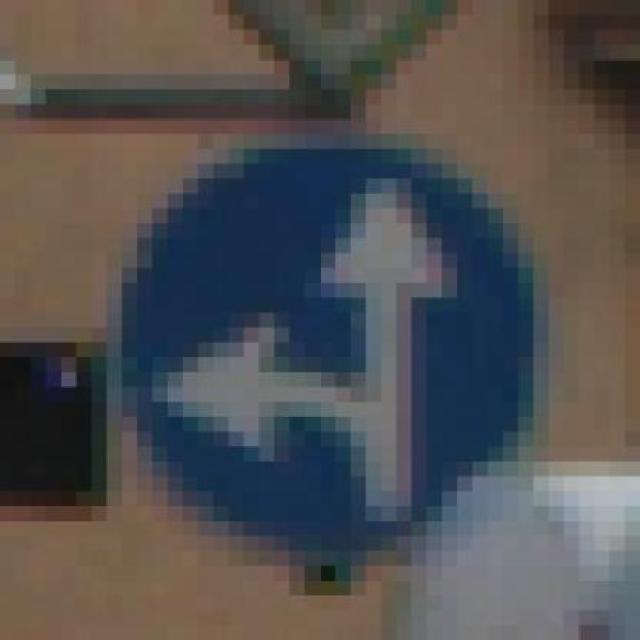Go straight or turn left: (117, 119, 545, 581)
